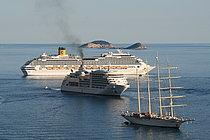Ship: (19, 49, 160, 79), (60, 67, 136, 99)
